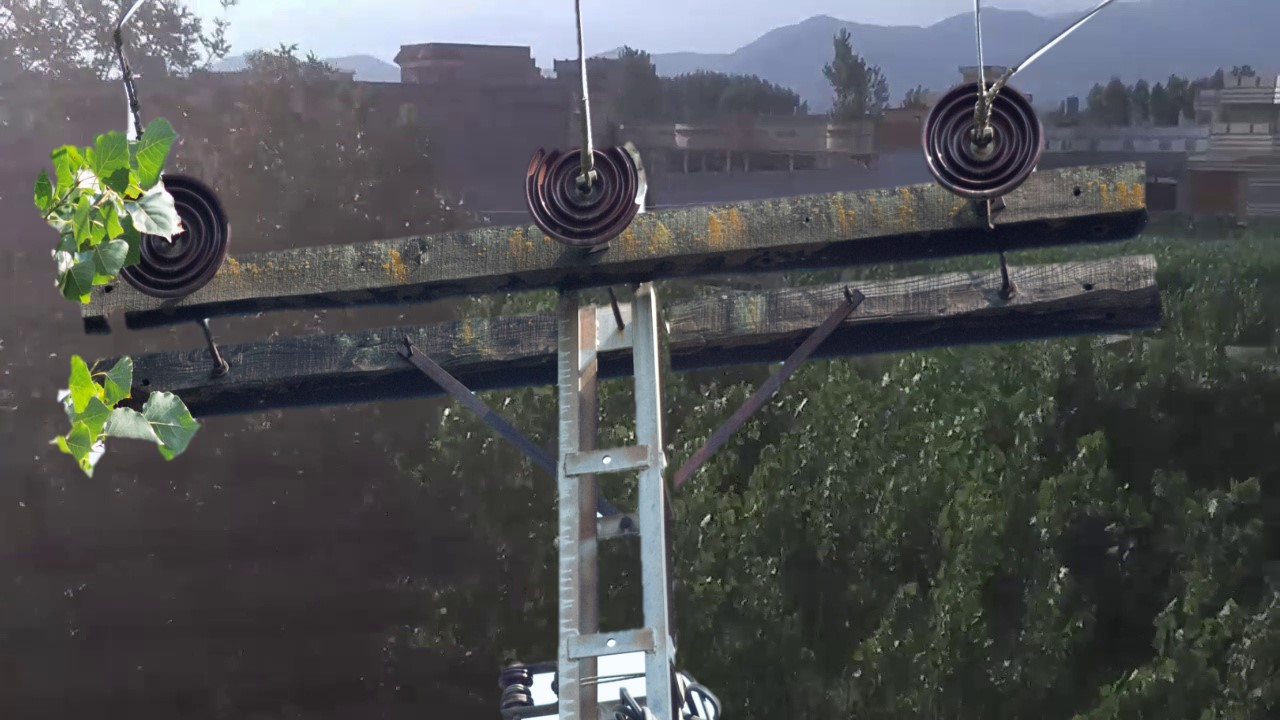defect_disc: (522, 132, 654, 244)
insulator_disc: (920, 76, 1050, 199), (166, 168, 236, 287)
